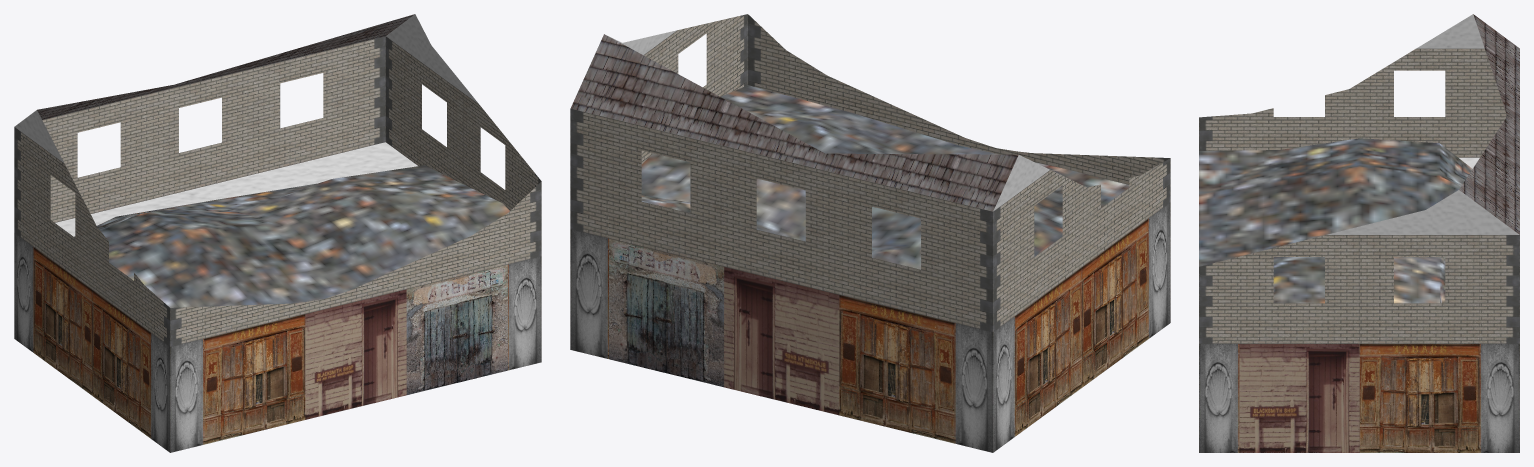
The model's file is House_011_destroyed_001.dae.
3 views of the same model, side by side, from view 1: azimuth 30°, elevation 25°; view 2: azimuth 150°, elevation 25°; view 3: azimuth 270°, elevation 25° (orthographic). The views are drawn at different scales.
Visible parts, largest first — view 1: House_011; view 2: House_011; view 3: House_011.
Part boxes in pixels (x1,y1,x2,y2): House_011: (14, 14, 541, 452); House_011: (570, 14, 1170, 452); House_011: (1199, 14, 1519, 452).
Bounding box in the file's own units: 88 × 64 × 57.93.
1 material, 1 textured.
